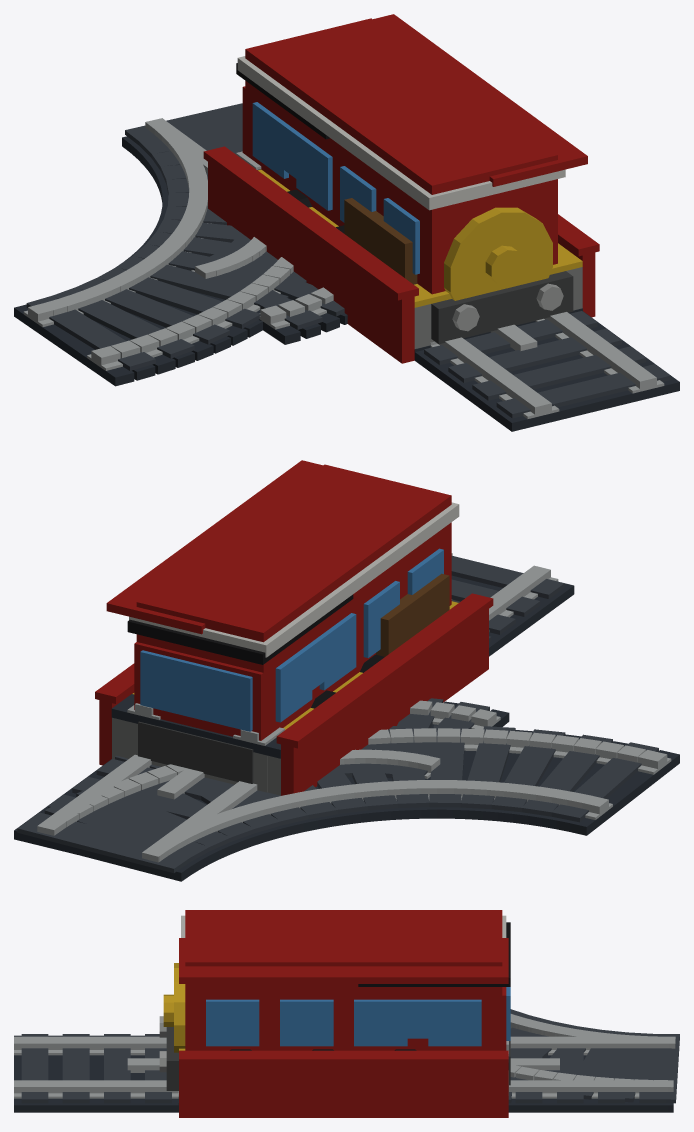
File: lego_track.glb
3 renders of one model, top to bottom at view 1: azimuth 30°, elevation 25°; view 2: azimuth 150°, elevation 25°; view 3: azimuth 270°, elevation 25°, orthographic. The views are drawn at different scales.
Visible parts, largest first — view 1: train_car_red, track_curve_big, track_long, train_loco, track_bridge, track_station, track_curve, track_cross; view 2: train_car_red, track_curve_big, track_bridge, track_long, train_loco, track_station, track_curve, track_ramp, track_cross; view 3: train_car_red, track_bridge, track_long, train_loco, track_curve_big, track_station, track_cross.
Part boxes in pixels (x1,y1,x2,y2): train_car_red: (237,18,565,301); track_curve_big: (14,103,306,386); track_long: (123,109,679,431); train_loco: (236,63,573,344); track_bridge: (203,146,599,363); track_station: (258,14,587,348); track_curve: (191,231,347,344); track_cross: (490,324,537,351); train_car_red: (129,464,459,783); track_curve_big: (15,725,679,881); track_bridge: (95,593,493,795); track_long: (14,553,574,880); train_loco: (127,594,459,740); track_station: (106,460,458,795); track_curve: (115,698,509,787); track_ramp: (111,694,284,792); track_cross: (157,768,204,799); train_car_red: (177,910,510,1085); track_bridge: (179,1050,508,1117); track_long: (14,1034,673,1112); train_loco: (159,922,510,1090); track_curve_big: (510,1009,679,1112); track_station: (179,938,508,1050); track_cross: (127,1058,559,1072).
Bounding box in the file's own units: 0.1676 × 0.064 × 0.2588.
